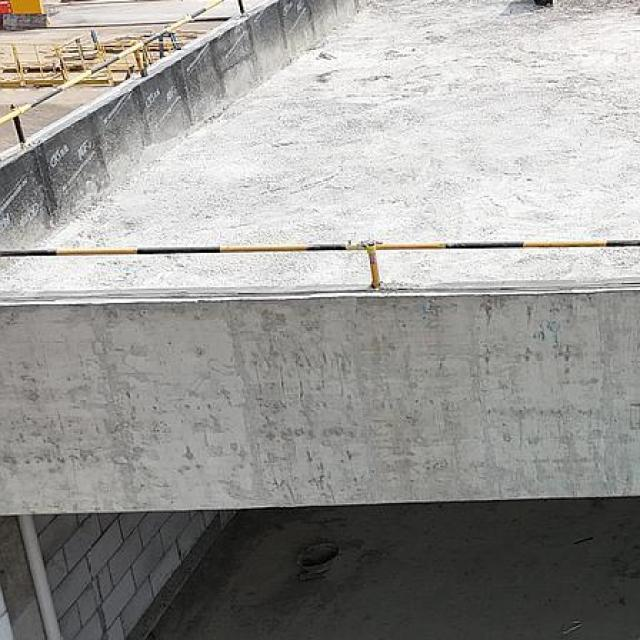edge_guardrail: (0, 0, 246, 146), (0, 238, 640, 288)
